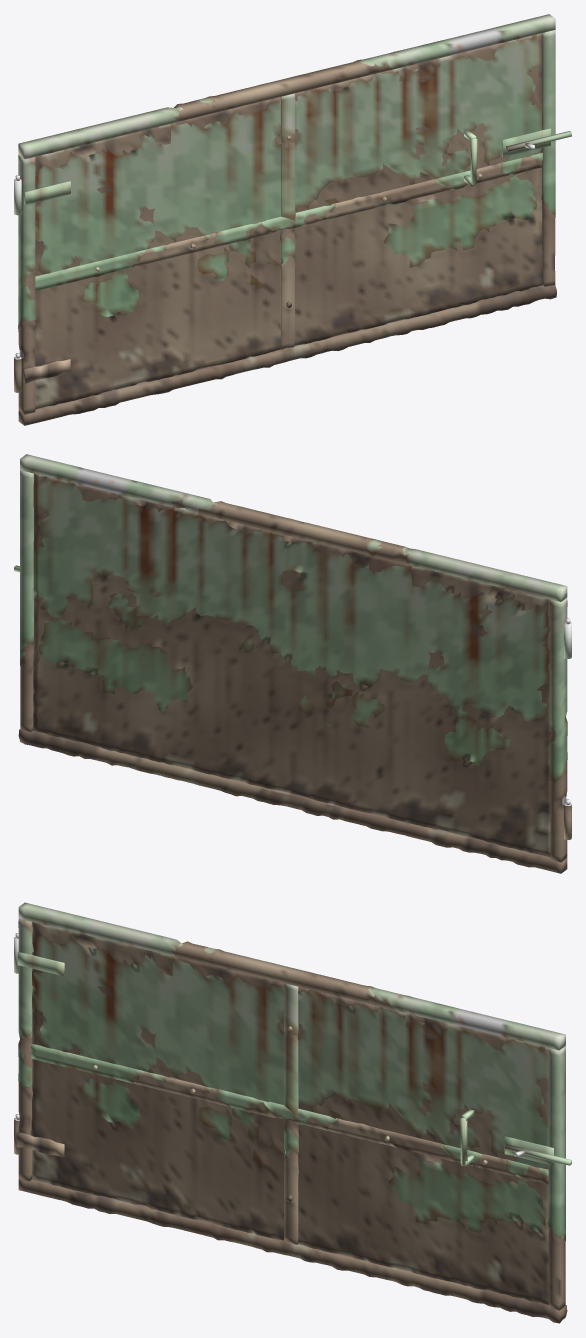
File: rusted_steel_panel.glb
The picture shows the model from 3 angles, top to bottom: view 1: azimuth 30°, elevation 25°; view 2: azimuth 150°, elevation 25°; view 3: azimuth 330°, elevation 25°; orthographic projection.
Parts seen in each view (by area): view 1: hb_steel; view 2: hb_steel; view 3: hb_steel.
Boxes of the visible parts, left/top/right/bottom form: hb_steel: left=14, top=14, right=571, bottom=425; hb_steel: left=14, top=454, right=571, bottom=873; hb_steel: left=14, top=902, right=571, bottom=1323.
Bounding box in the file's own units: 2.08 × 1.01 × 0.1118.
